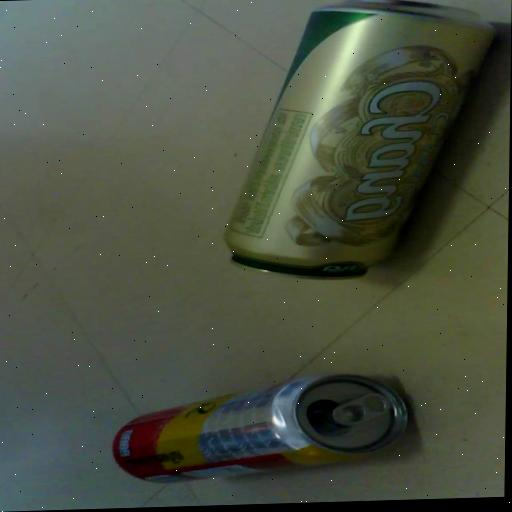canned: (207, 0, 512, 293), (100, 348, 428, 491)
